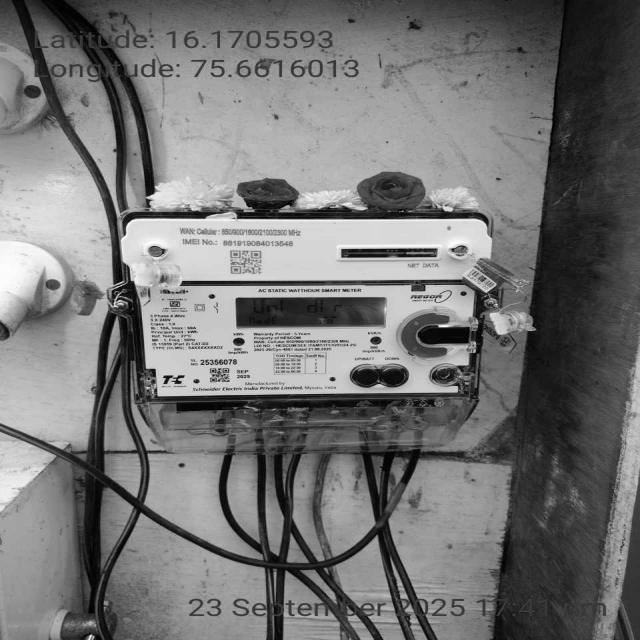meter: (118, 215, 477, 397)
